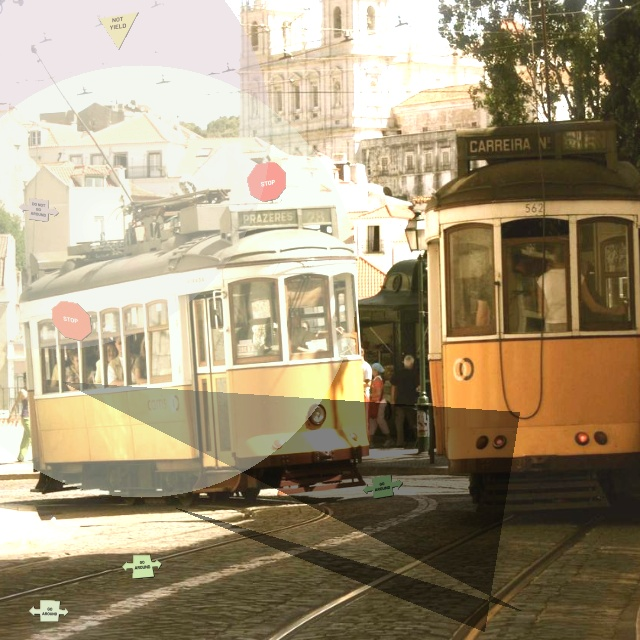DO_NOT_GO_AROUND: (18, 197, 59, 222)
GO_AROUND: (362, 474, 403, 499), (121, 554, 162, 579), (28, 599, 69, 622)
NOT_YIELD: (98, 11, 139, 50)
STOP: (51, 300, 92, 341), (246, 161, 286, 202)
